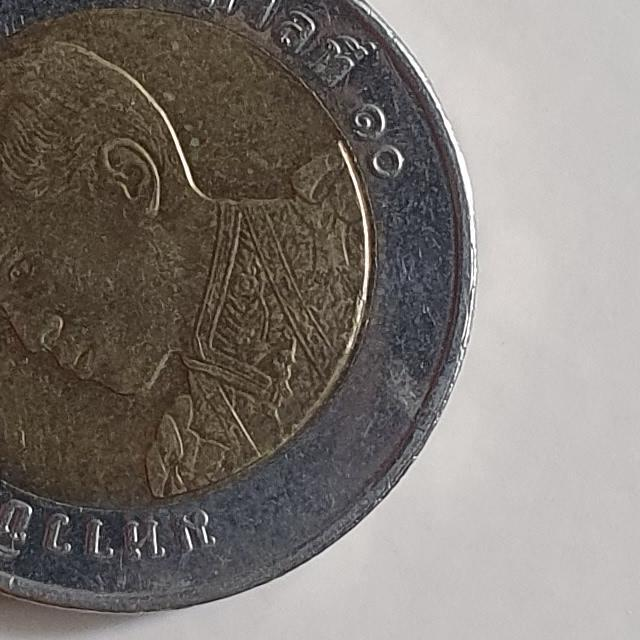10 Bath: (1, 3, 483, 620)
